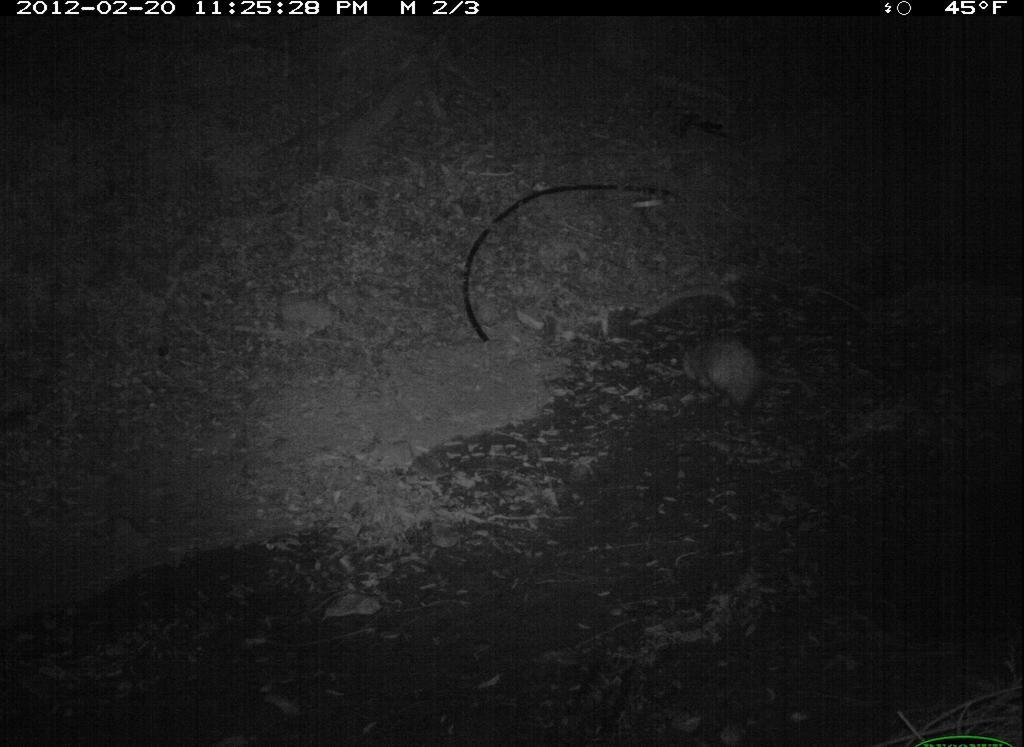opossum: (665, 328, 833, 429)
